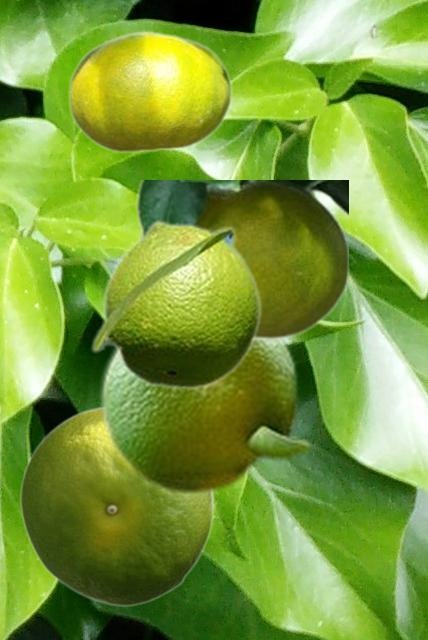dalandan: (19, 407, 213, 606), (135, 180, 347, 339), (97, 339, 313, 494), (89, 219, 262, 390), (67, 30, 231, 153)
